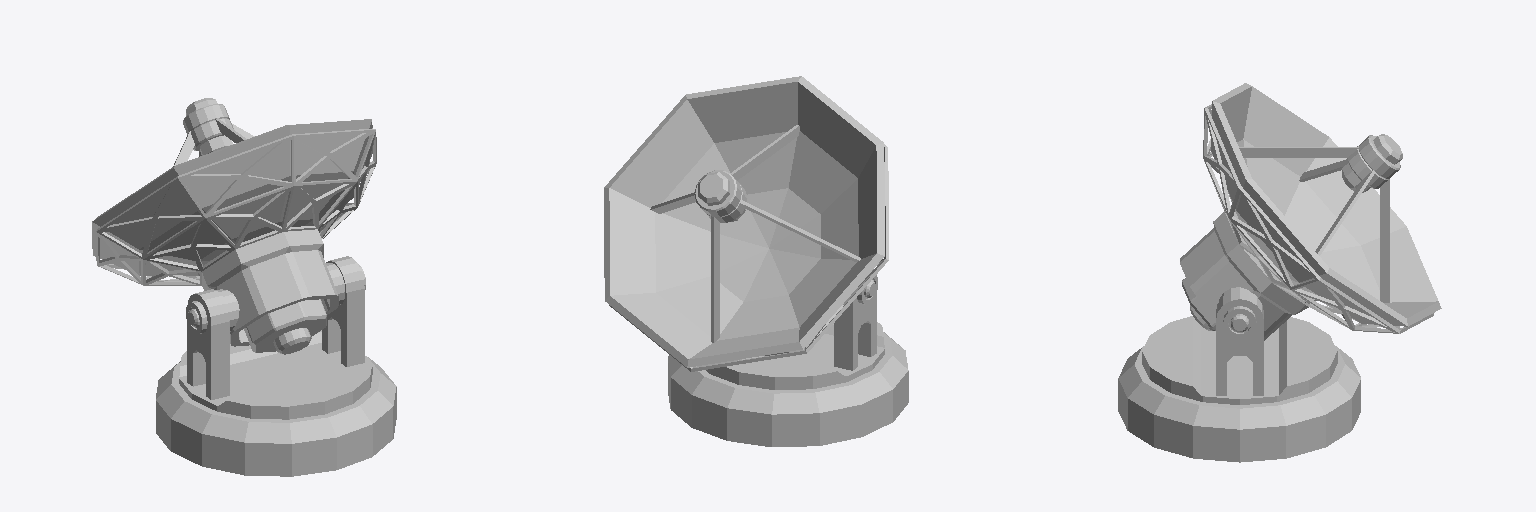
File: SATDISH1.obj
3 views of the same model, side by side, from view 1: azimuth 30°, elevation 25°; view 2: azimuth 150°, elevation 25°; view 3: azimuth 270°, elevation 25° (orthographic).
Visible parts, largest first — view 1: Sphere; view 2: Sphere; view 3: Sphere.
Boxes of the visible parts, x1,y1,x2,y2 form: Sphere: [92, 98, 396, 476]; Sphere: [604, 76, 908, 446]; Sphere: [1118, 83, 1441, 462].
Bounding box in the file's own units: 1.85 × 1.95 × 1.84.